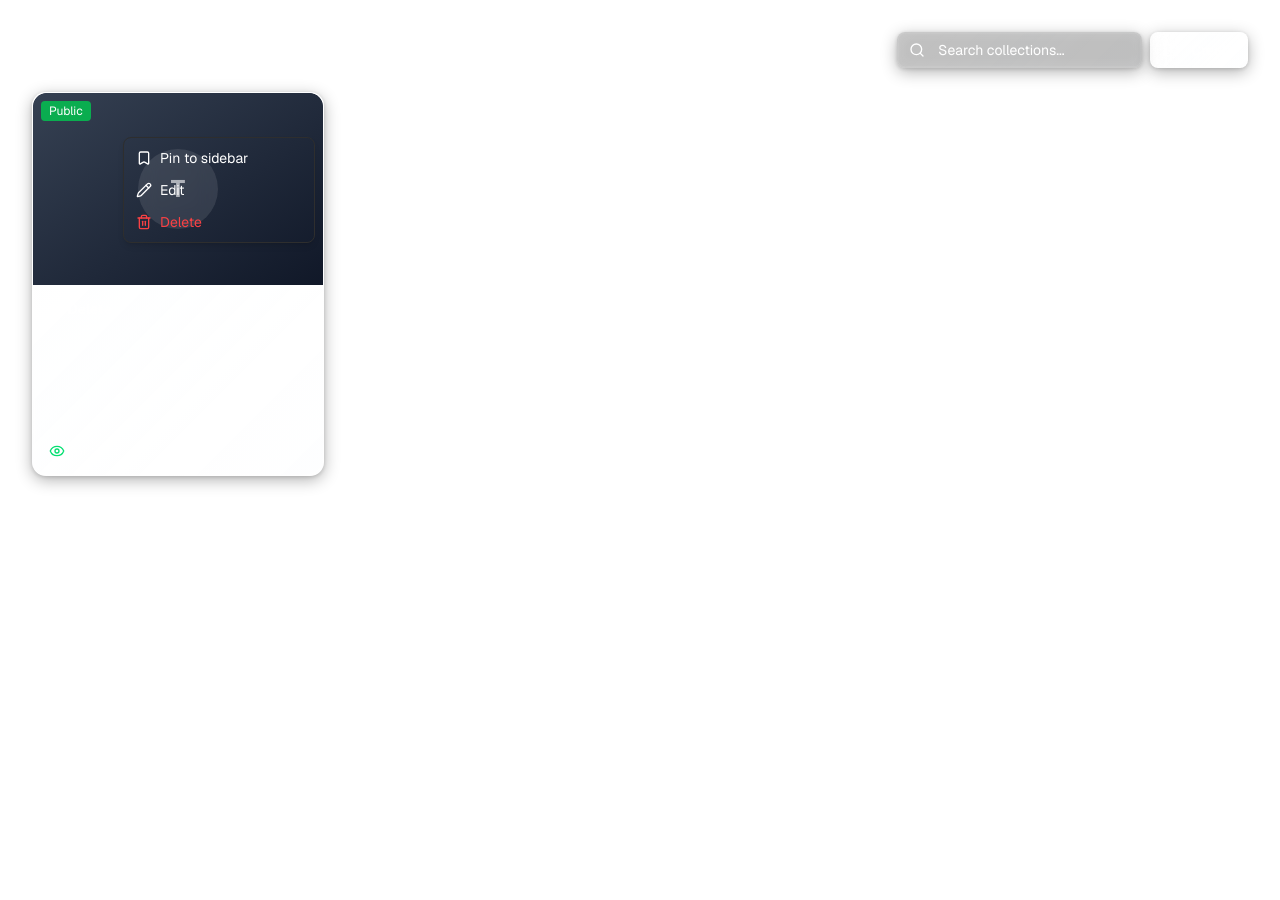
Test: CollectionsListPage › opens delete dialog and removes collection on confirm
Earlier steps of the test are not shown.
Later steps or results of the test are not shown.
Click the menu item "Delete". click: point(169, 222)
box: left=136, top=213, right=202, bottom=231
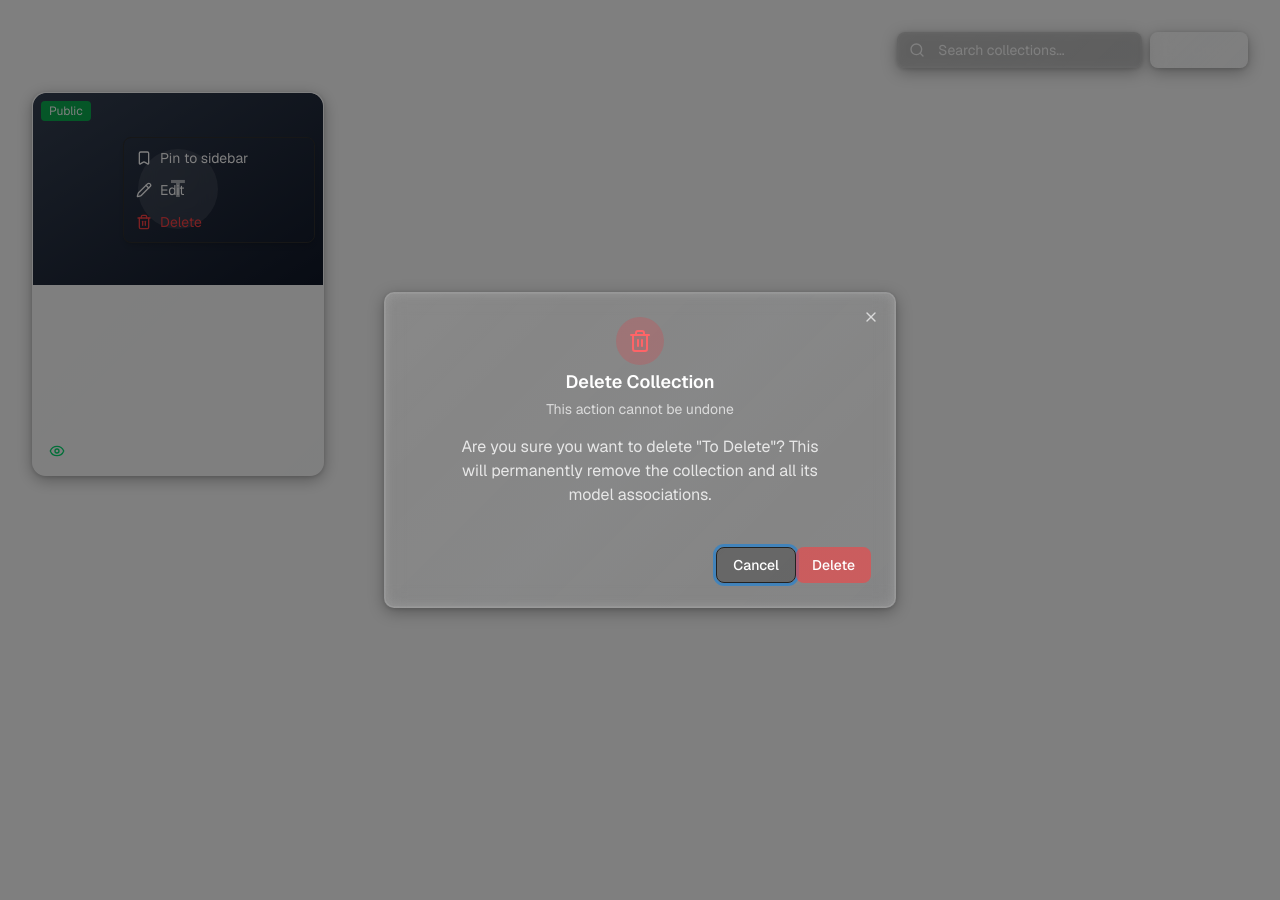
Check: the dialog is shown, box left=384, top=292, right=896, bottom=608
